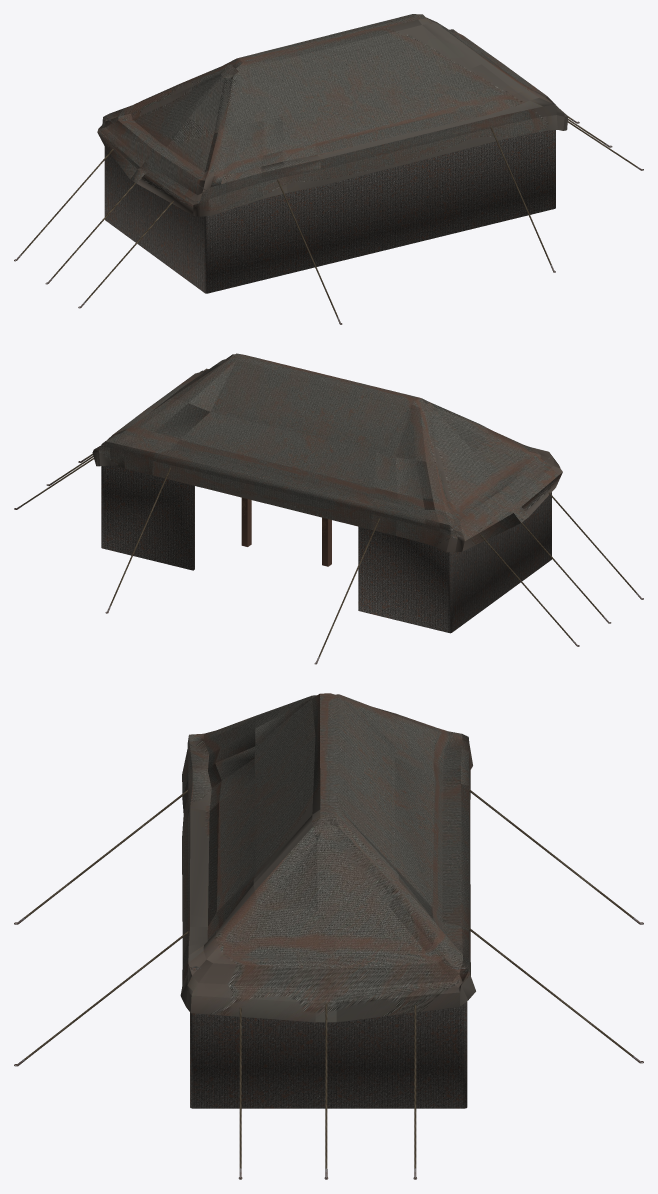
Rendered from large_militery_tent.glb.
3 views of the same model, one above another, from view 1: azimuth 30°, elevation 25°; view 2: azimuth 150°, elevation 25°; view 3: azimuth 270°, elevation 25° (orthographic). The views are drawn at different scales.
Visible parts, largest first — view 1: Cube.015_Cube.001, Cube.015, Cylinder.003; view 2: Cube.015_Cube.001, Cube.015, Cylinder.003, RoadKillOut.000; view 3: Cube.015_Cube.001, Cube.015, Cylinder.003.
Boxes of the visible parts, x1,y1,x2,y2 form: Cube.015_Cube.001: (97,14,567,216); Cube.015: (104,31,555,293); Cylinder.003: (14,116,643,324); Cube.015_Cube.001: (92,353,562,552); Cube.015: (101,370,551,633); Cylinder.003: (14,454,643,664); RoadKillOut.000: (241,497,331,566); Cube.015_Cube.001: (180,693,475,1022); Cube.015: (190,736,467,1108); Cylinder.003: (14,789,643,1179).
Bounding box in the file's own units: 2 × 0.6352 × 1.42.
5 materials, 5 textured.
